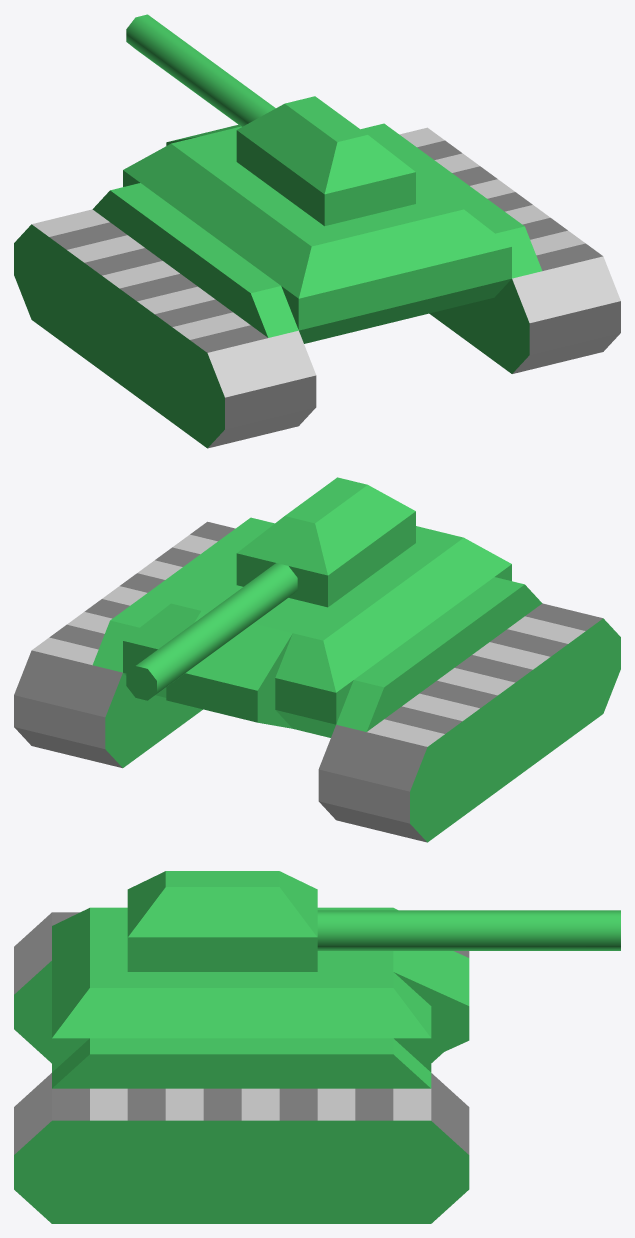
The model's file is playerB.fbx.
3 renders of one model, top to bottom at view 1: azimuth 30°, elevation 25°; view 2: azimuth 150°, elevation 25°; view 3: azimuth 270°, elevation 25°, orthographic. The views are drawn at different scales.
Parts seen in each view (by area): view 1: playerB; view 2: playerB; view 3: playerB.
Boxes of the visible parts, x1,y1,x2,y2 form: playerB: (14,14,620,448); playerB: (14,477,620,842); playerB: (14,871,620,1223).
Size of the model in its own units: 1.62 by 0.875 by 2.
